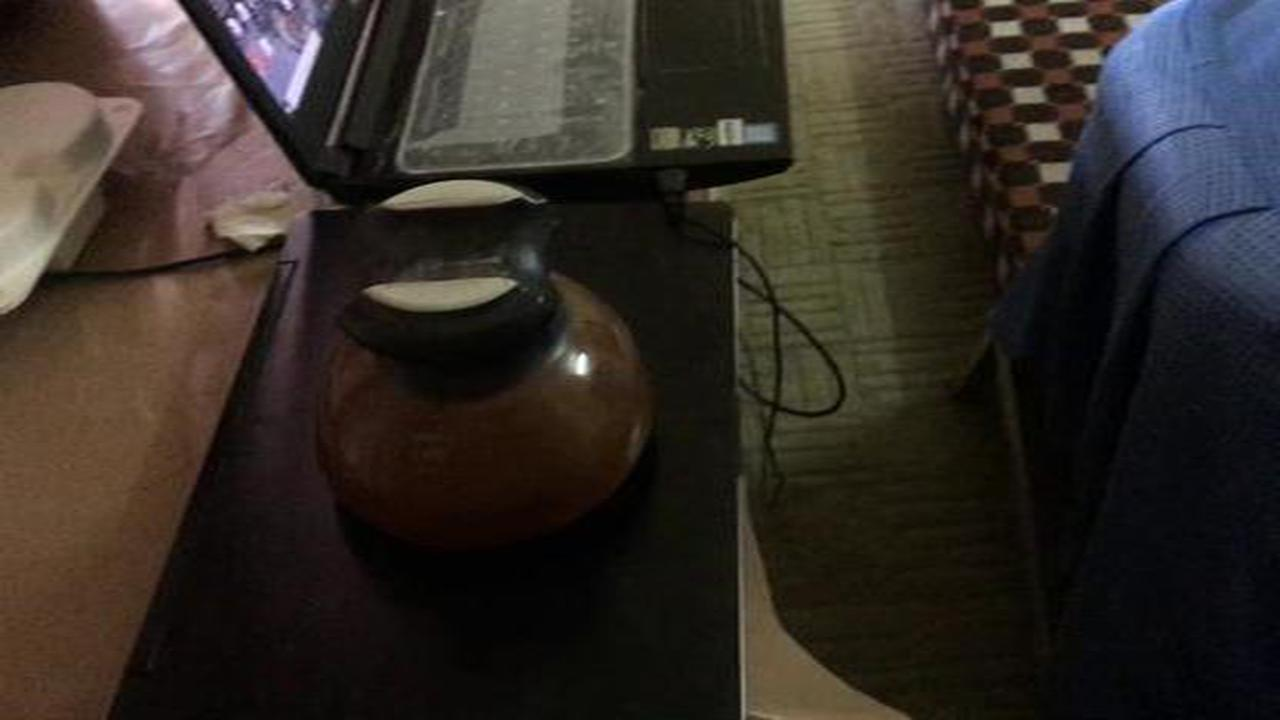insulator_pin: (296, 167, 668, 573)
